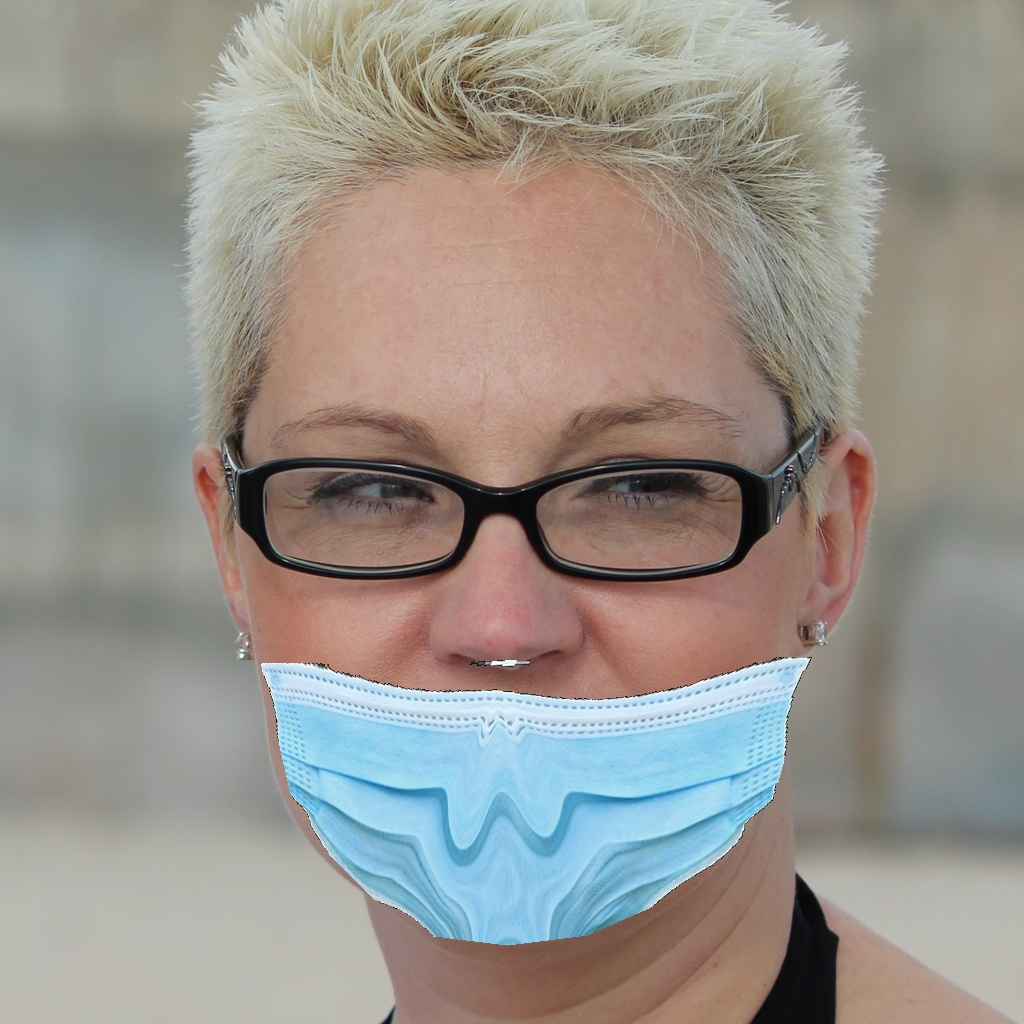mask_weared_incorrect: (194, 355, 849, 962)
